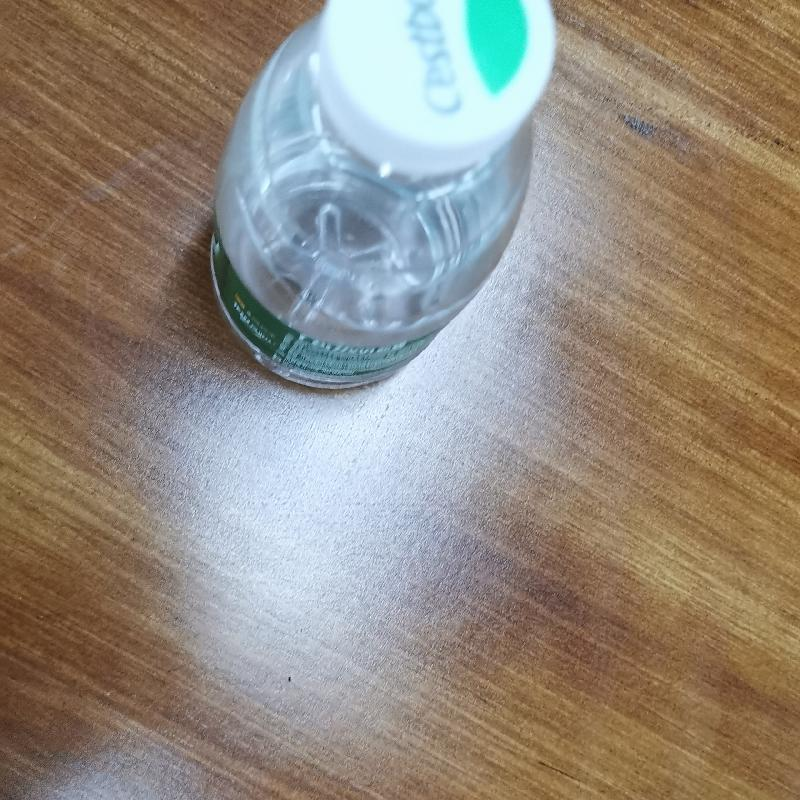bottles: (194, 0, 568, 399)
